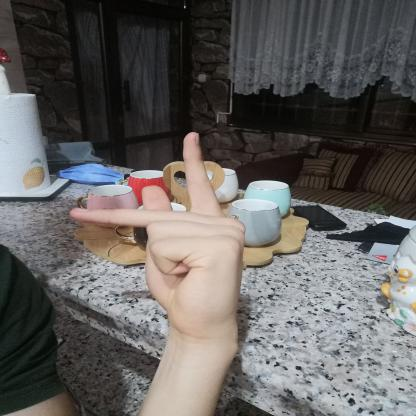DHAA: (53, 125, 255, 345)
